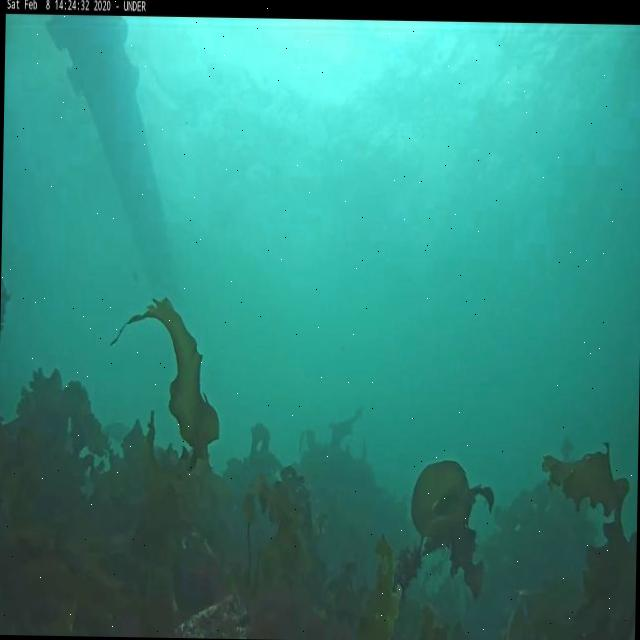fish: (102, 418, 132, 442)
